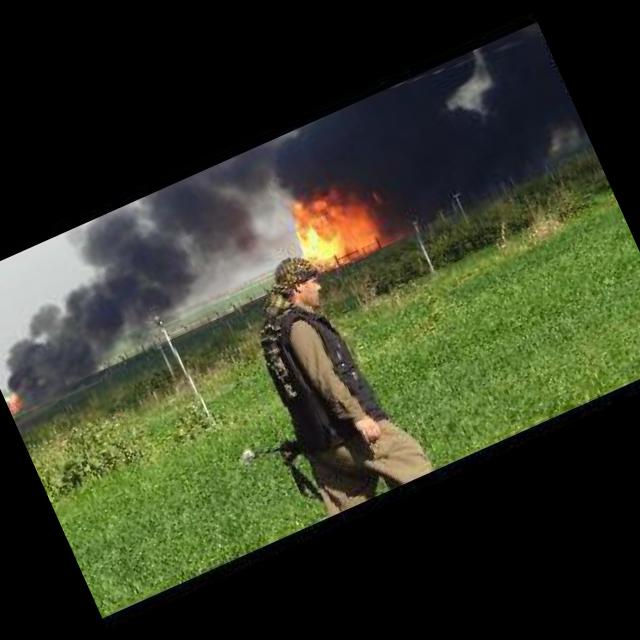fire: (276, 166, 394, 276), (5, 392, 24, 414)
smoke: (0, 148, 306, 401)
